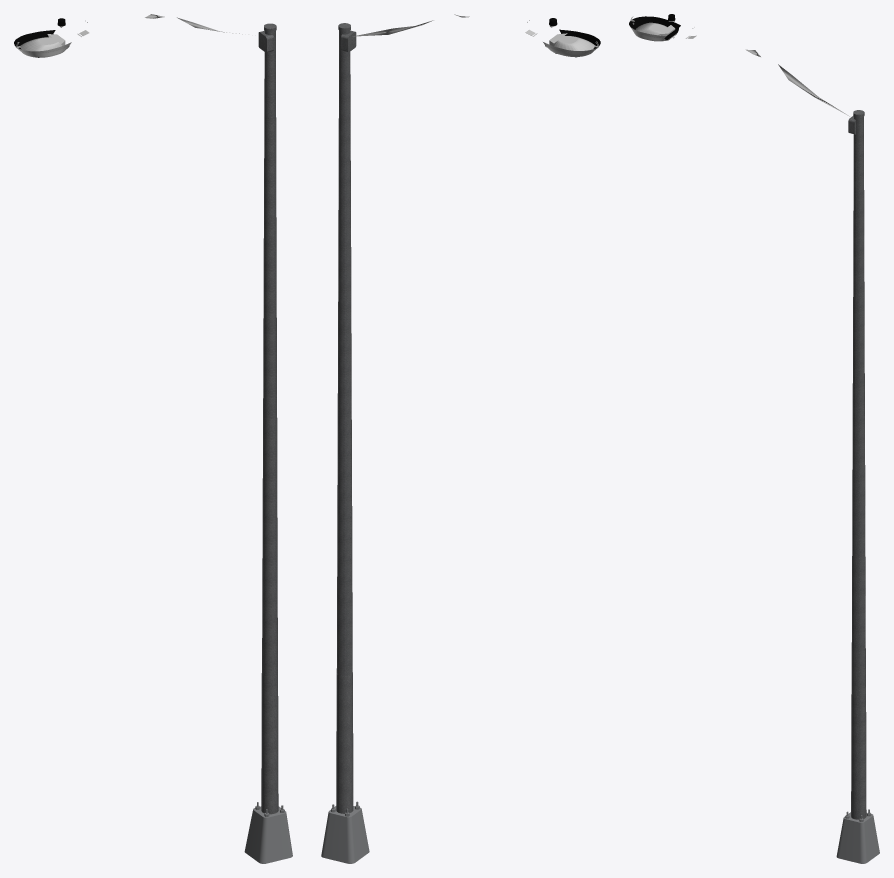
File: bridge_street_light.glb
The picture shows the model from 3 angles, left to right: view 1: azimuth 30°, elevation 25°; view 2: azimuth 150°, elevation 25°; view 3: azimuth 330°, elevation 25°; orthographic projection. The views are drawn at different scales.
Visible parts, largest first — view 1: Material2 (×3); view 2: Material2 (×3); view 3: Material2 (×3).
Part boxes in pixels (bbox=[...]): Material2 (×3): bbox=[14, 18, 292, 863]; Material2 (×3): bbox=[321, 18, 600, 863]; Material2 (×3): bbox=[629, 14, 879, 863].
Bounding box in the file's own units: 132 × 415 × 18.43.
11 materials, 11 textured.
